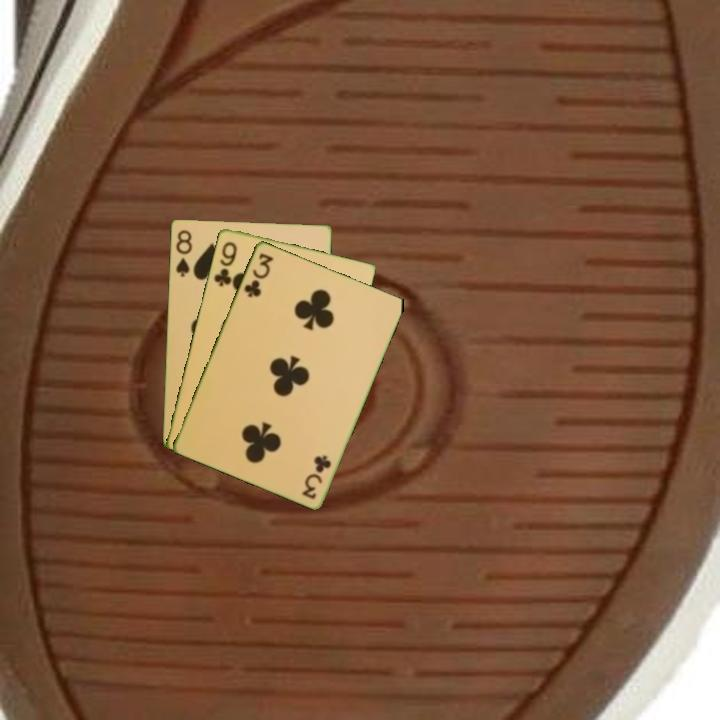3c: (240, 249, 276, 300), (298, 451, 334, 502)
8s: (172, 226, 195, 279)
9c: (210, 238, 240, 290)
